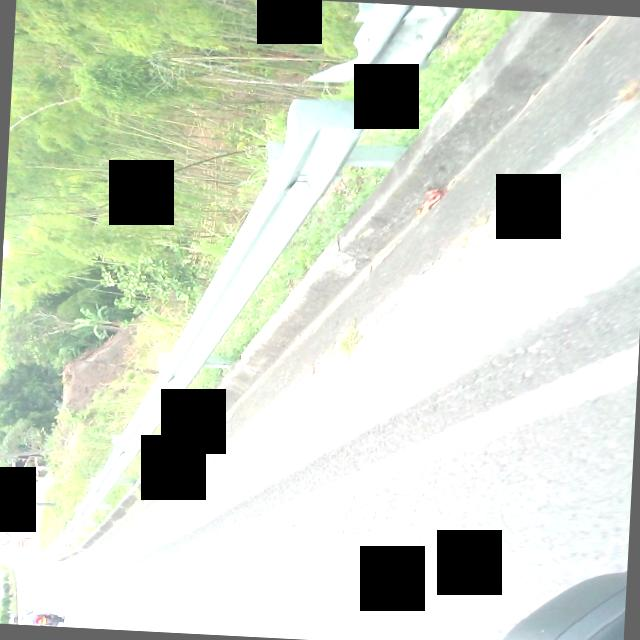DITCH: (48, 0, 640, 640), (32, 0, 640, 622)
